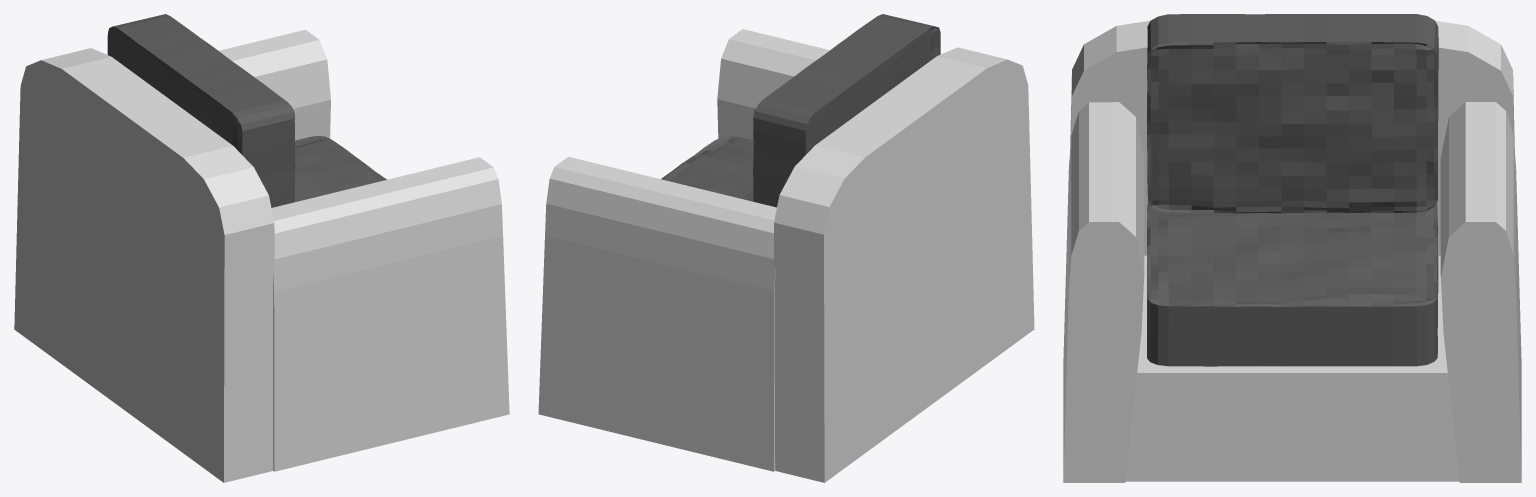
3 views of the same model, side by side, from view 1: azimuth 30°, elevation 25°; view 2: azimuth 150°, elevation 25°; view 3: azimuth 270°, elevation 25° (orthographic). The views are drawn at different scales.
Parts seen in each view (by area): view 1: Kostka.003; view 2: Kostka.003; view 3: Kostka.003.
Boxes of the visible parts, x1,y1,x2,y2 form: Kostka.003: [14, 14, 509, 482]; Kostka.003: [538, 14, 1034, 482]; Kostka.003: [1063, 14, 1521, 482].
Bounding box in the file's own units: 256 × 277 × 330.
1 material, 1 textured.
